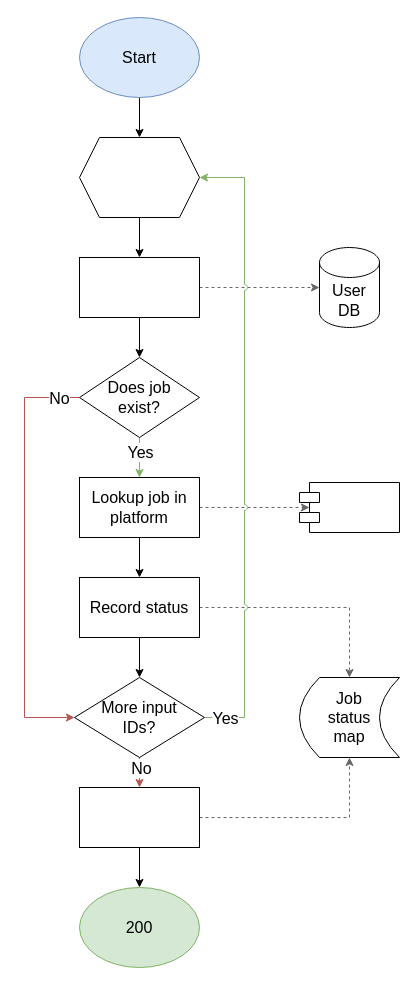
The diagram is 417 pixels wide and 985 high, and some of its shapes have lost their labels. The box of each missing label's shape, as (x1, y1, x2, y2) in pixels:
Async Platform: (298, 482, 400, 532)
For each input ID: (78, 136, 200, 218)
Lookup job in user DB: (78, 256, 200, 318)
Response map to JSON: (78, 786, 200, 848)
